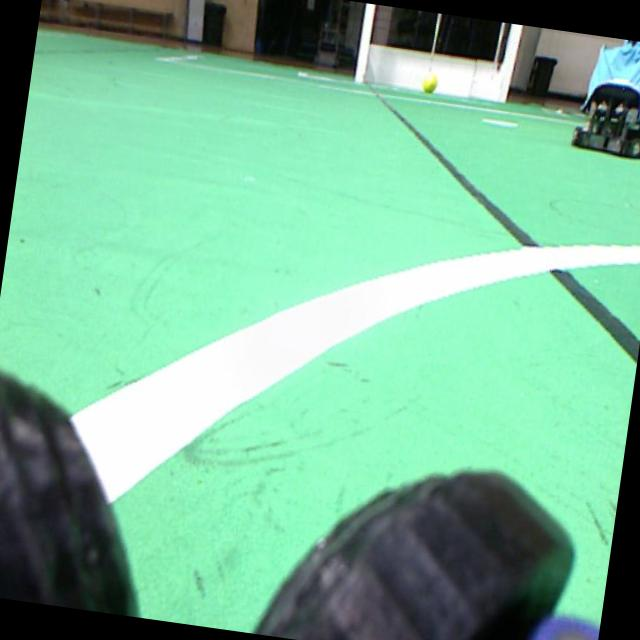ball: (422, 71, 437, 93)
goal: (498, 24, 522, 101), (355, 3, 375, 83)
